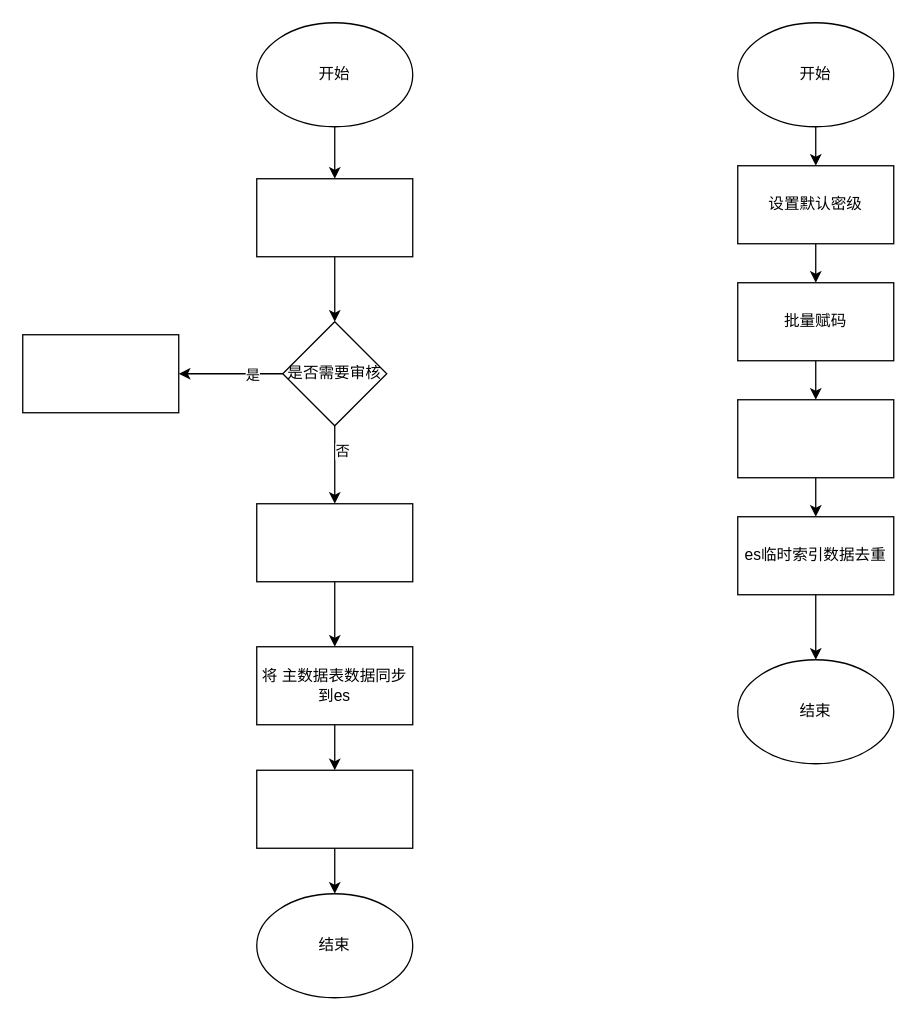
Image size: 916x1020. Some labels were removed from this diagram. Here are the shapes that lost their labels. From the top down, the box of each, then its label:
(255, 177, 413, 257): 数据处理
(21, 333, 179, 413): 一键添加，将es临时索引数据同步到主数据临时表
(736, 398, 894, 478): 存入es临时索引
(255, 502, 413, 582): 调用fegin接口将es临时索引数据同步到主数据表
(255, 769, 413, 848): 调用fegin触发数据分发
